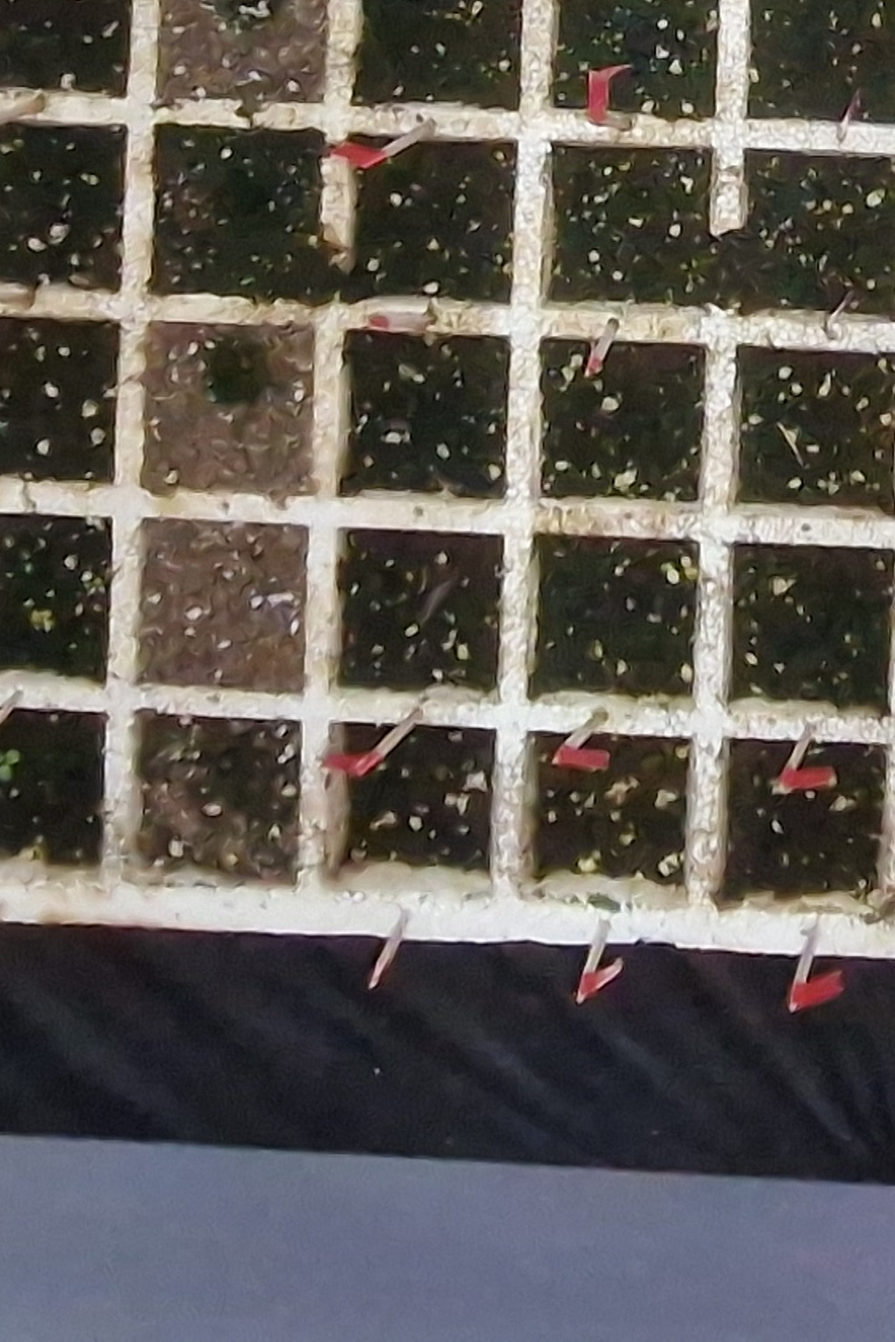Folha: (7, 749, 20, 764)
Germinacao: (0, 748, 21, 781)
